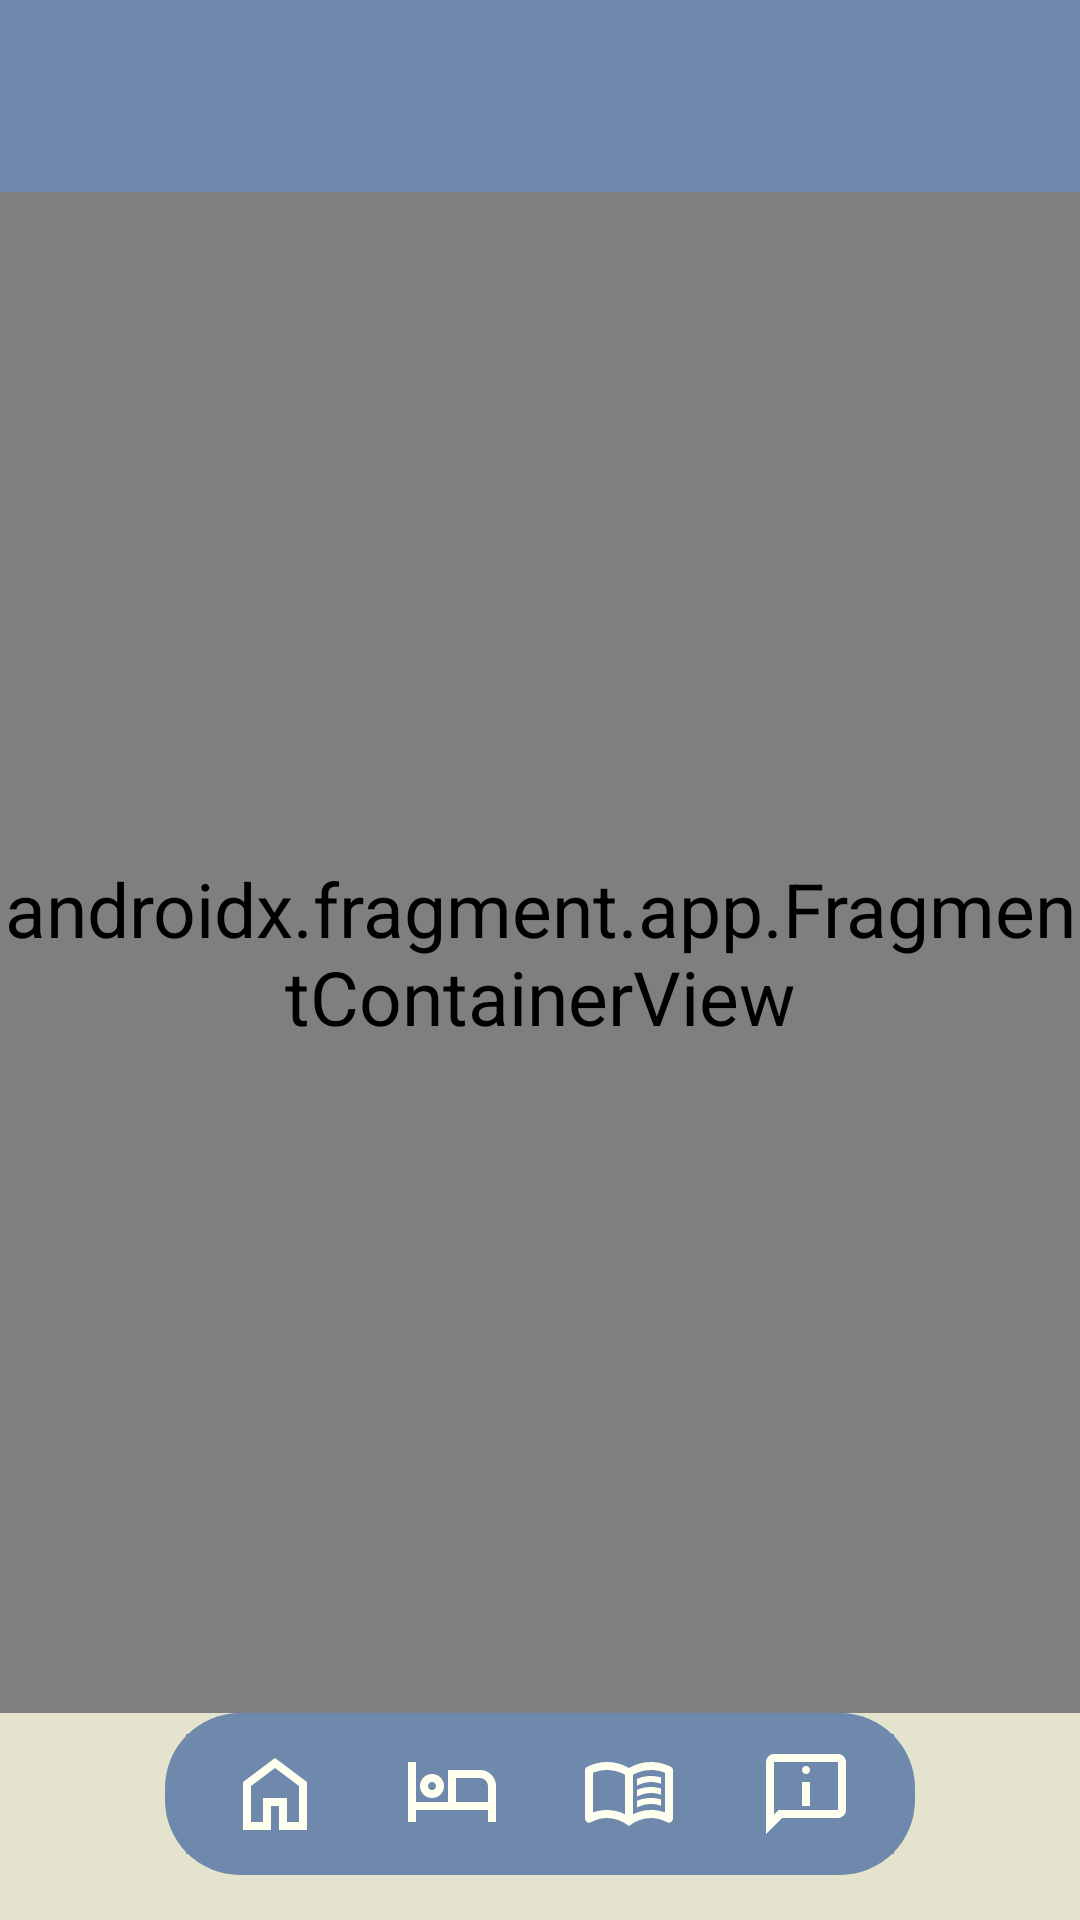

Named icons in this screenshot (1080 × 1920) and their bounding boxes, (x1, y1, x2, y2):
assistant: (766, 1754, 846, 1834)
diary: (585, 1762, 673, 1826)
home: (243, 1758, 307, 1830)
sleep: (408, 1762, 496, 1822)
